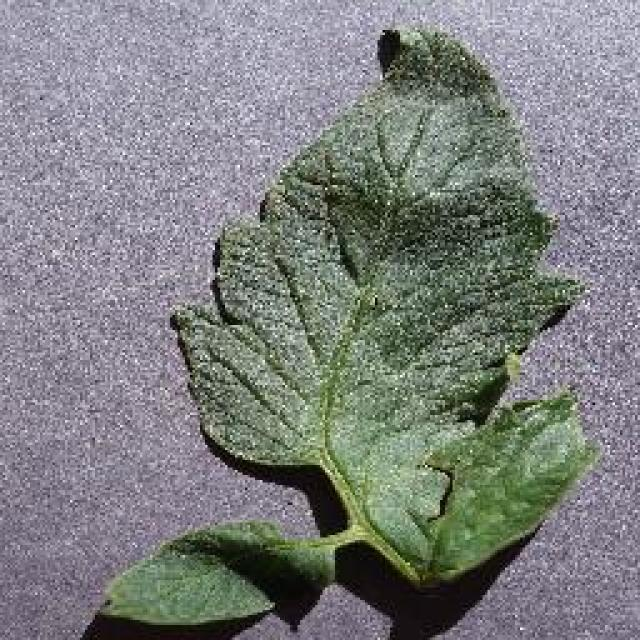Tomato_Healthy: (74, 18, 605, 632)
